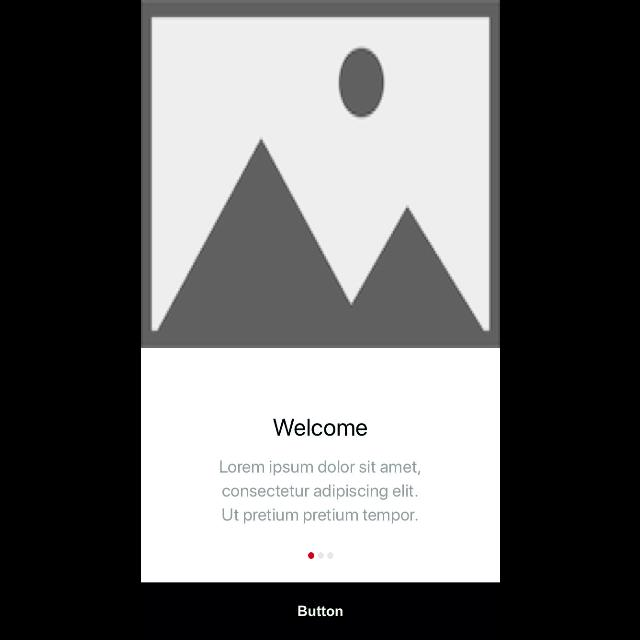image: (141, 1, 499, 350)
pageindicator: (308, 552, 334, 560)
text: (218, 461, 422, 524), (272, 418, 366, 436)
textbutton: (140, 582, 500, 640)
